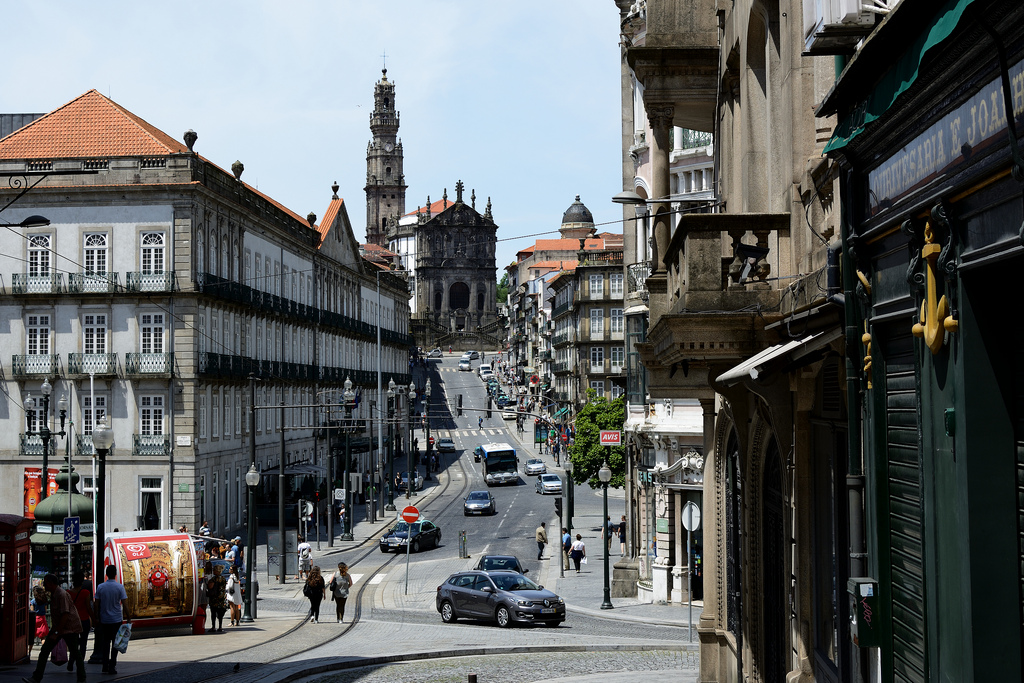clerigos: (365, 67, 410, 254)
